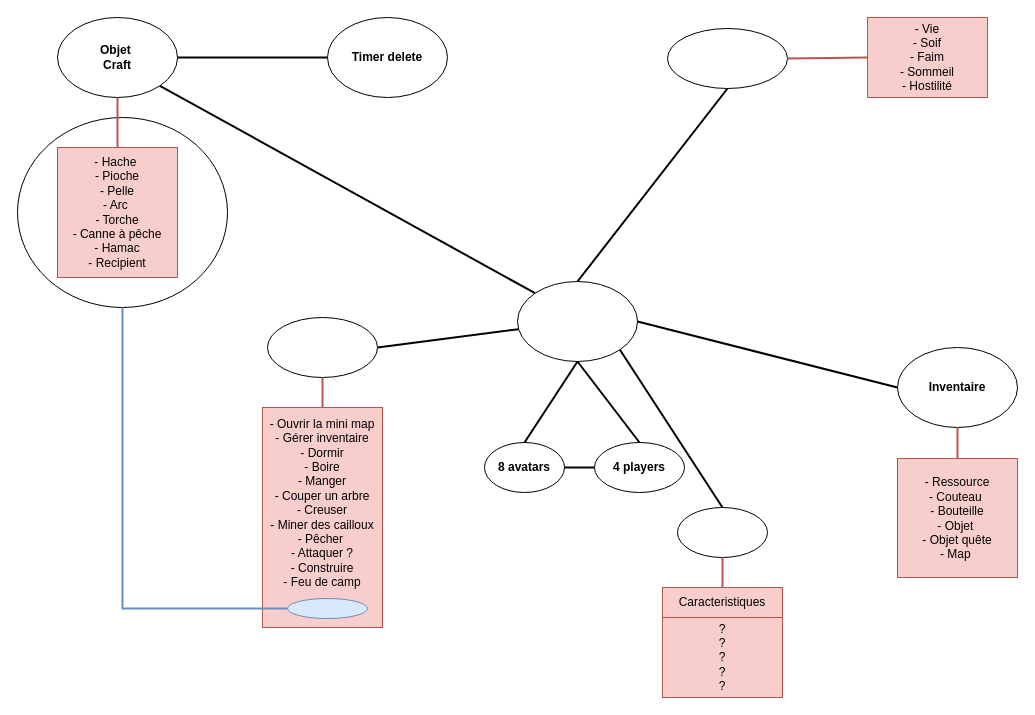
Image size: 1035x715. Some labels were removed from this diagram. Here are the shapes that lost their labels. From the top down, the centre of each, then its label:
the point at 727,58: Signes vitaux
the point at 577,321: Personnage
the point at 322,347: Action
the point at 722,532: Level
the point at 327,608: Crafter
